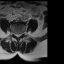CCS_stenosis: (17, 32, 19, 38)
LFS_normal: (20, 31, 23, 37)
LLS_normal: (19, 32, 20, 38)
RFS_normal: (13, 31, 15, 36)
RLS_normal: (15, 32, 17, 38)
